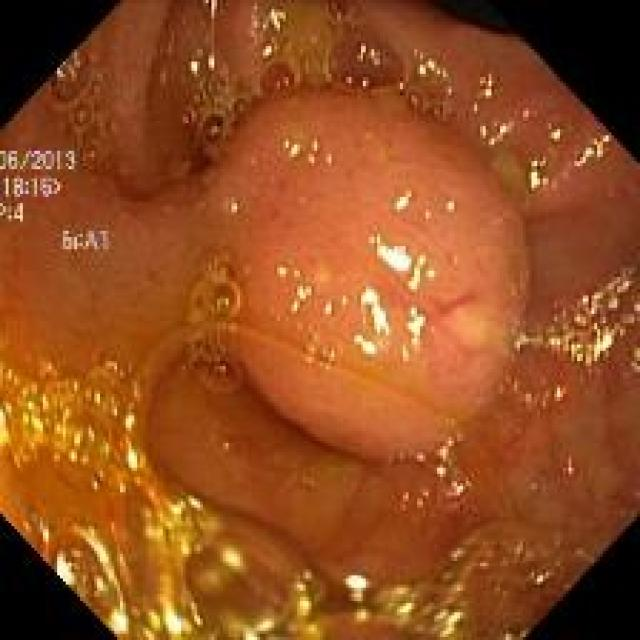Polyps: (208, 86, 529, 460)
